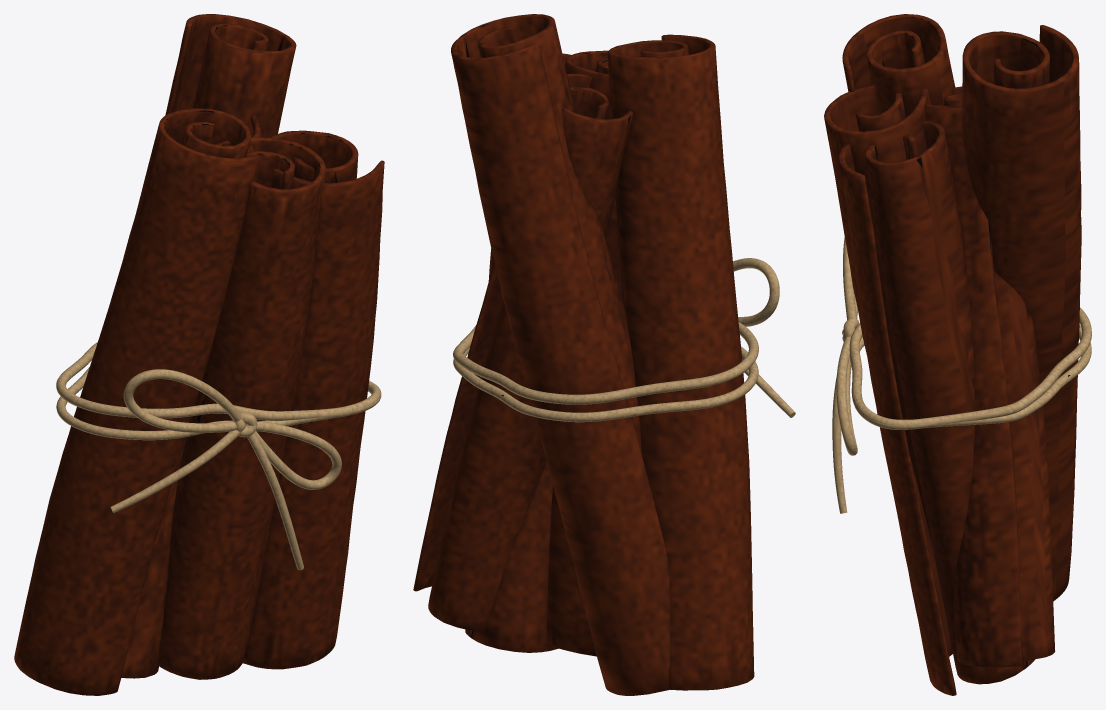
Rendered from kayu_manis.glb.
3 views of the same model, side by side, from view 1: azimuth 30°, elevation 25°; view 2: azimuth 150°, elevation 25°; view 3: azimuth 270°, elevation 25° (orthographic). The views are drawn at different scales.
Visible parts, largest first — view 1: Cinnamon_Bark, Jute_Twine; view 2: Cinnamon_Bark, Jute_Twine; view 3: Cinnamon_Bark, Jute_Twine.
Boxes of the visible parts, x1=… form: Cinnamon_Bark: x1=14, y1=14, x2=384, y2=695; Jute_Twine: x1=56, y1=342, x2=381, y2=570; Cinnamon_Bark: x1=413, y1=14, x2=754, y2=695; Jute_Twine: x1=453, y1=258, x2=795, y2=422; Cinnamon_Bark: x1=824, y1=14, x2=1081, y2=695; Jute_Twine: x1=832, y1=237, x2=1091, y2=513.
Bounding box in the file's own units: 2.68 × 4.97 × 1.93.
2 materials, 2 textured.
